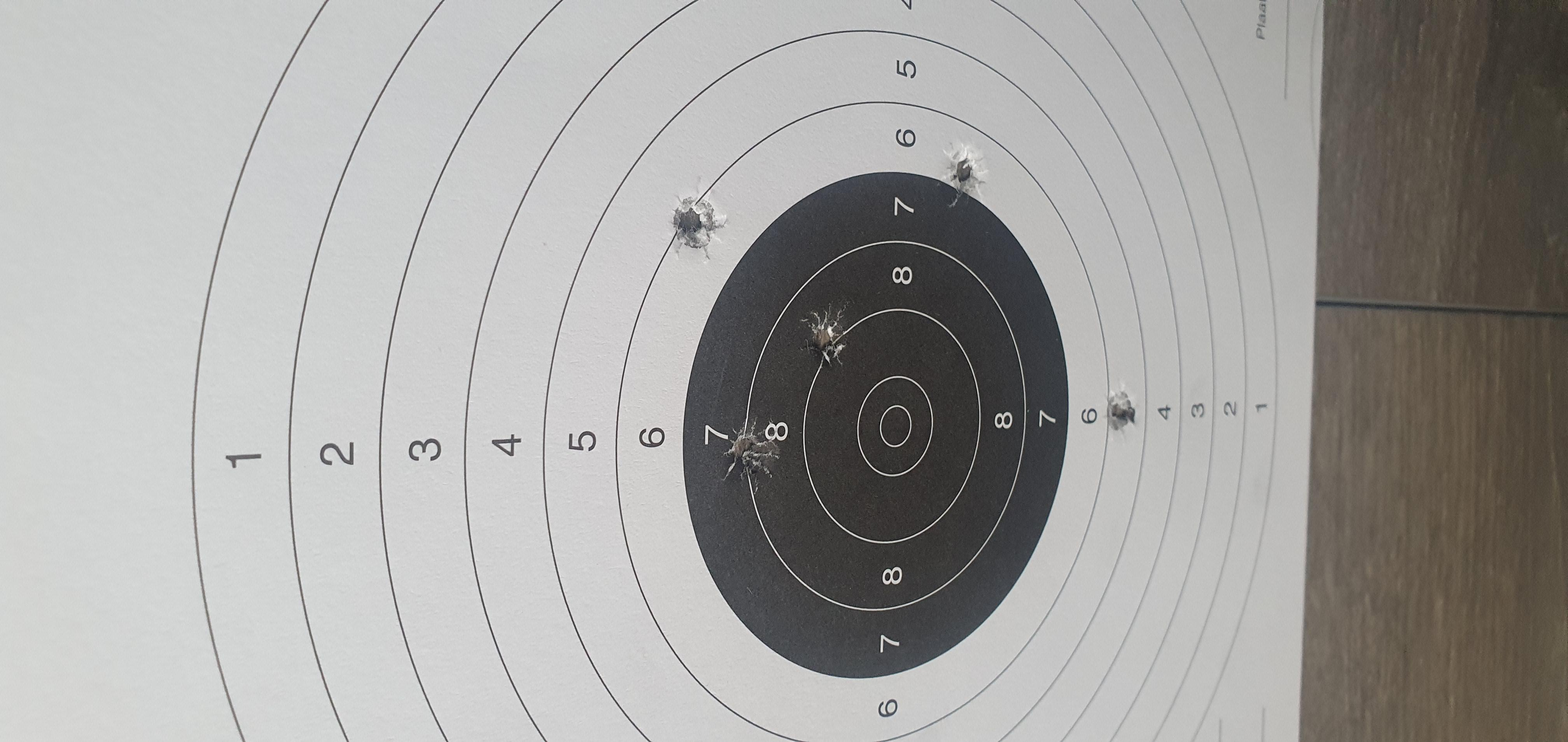hole: (383, 398, 551, 426), (890, 372, 1041, 401), (636, 336, 778, 366), (296, 273, 441, 298), (816, 204, 923, 219)
